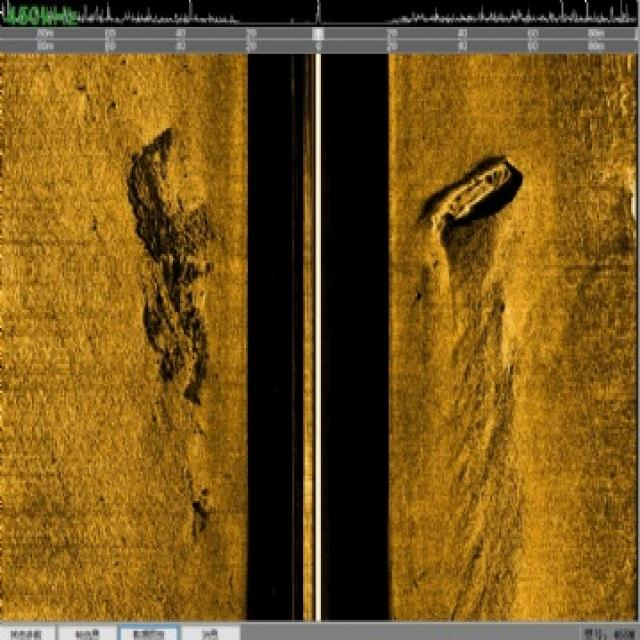ship: (435, 150, 510, 234)
